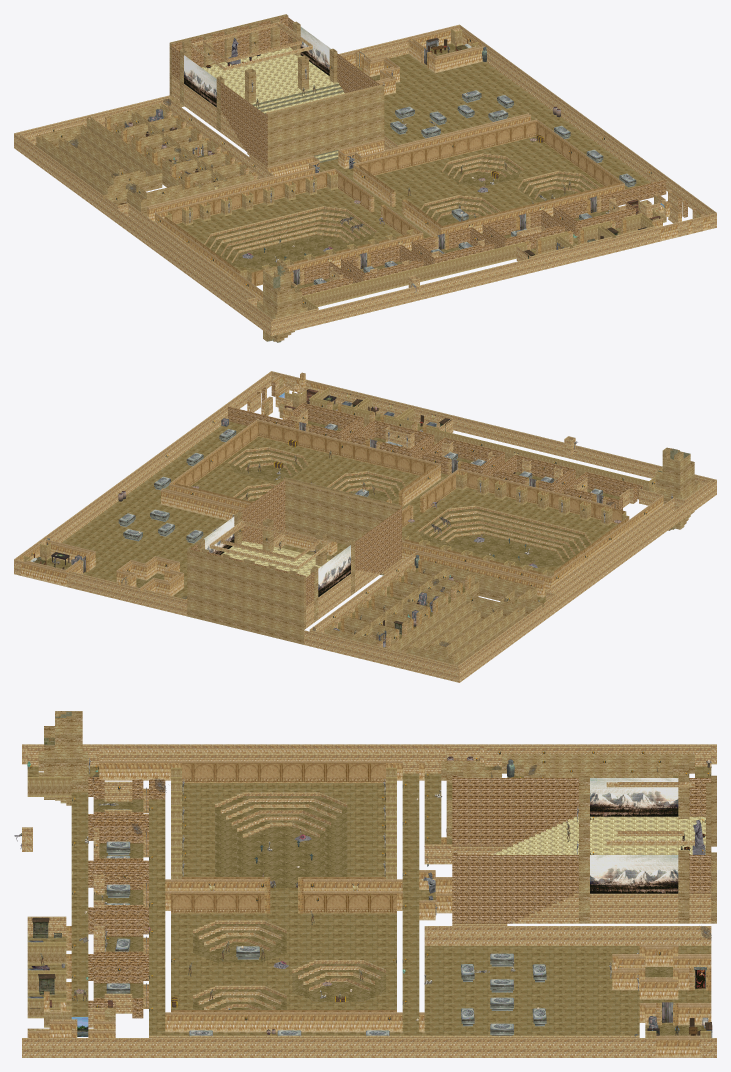
Rendered from map.gltf.
3 renders of one model, top to bottom at view 1: azimuth 30°, elevation 25°; view 2: azimuth 150°, elevation 25°; view 3: azimuth 270°, elevation 25°, orthographic. The views are drawn at different scales.
Bounding box in the file's own units: 126 × 26.75 × 127.
75 materials, 75 textured.
